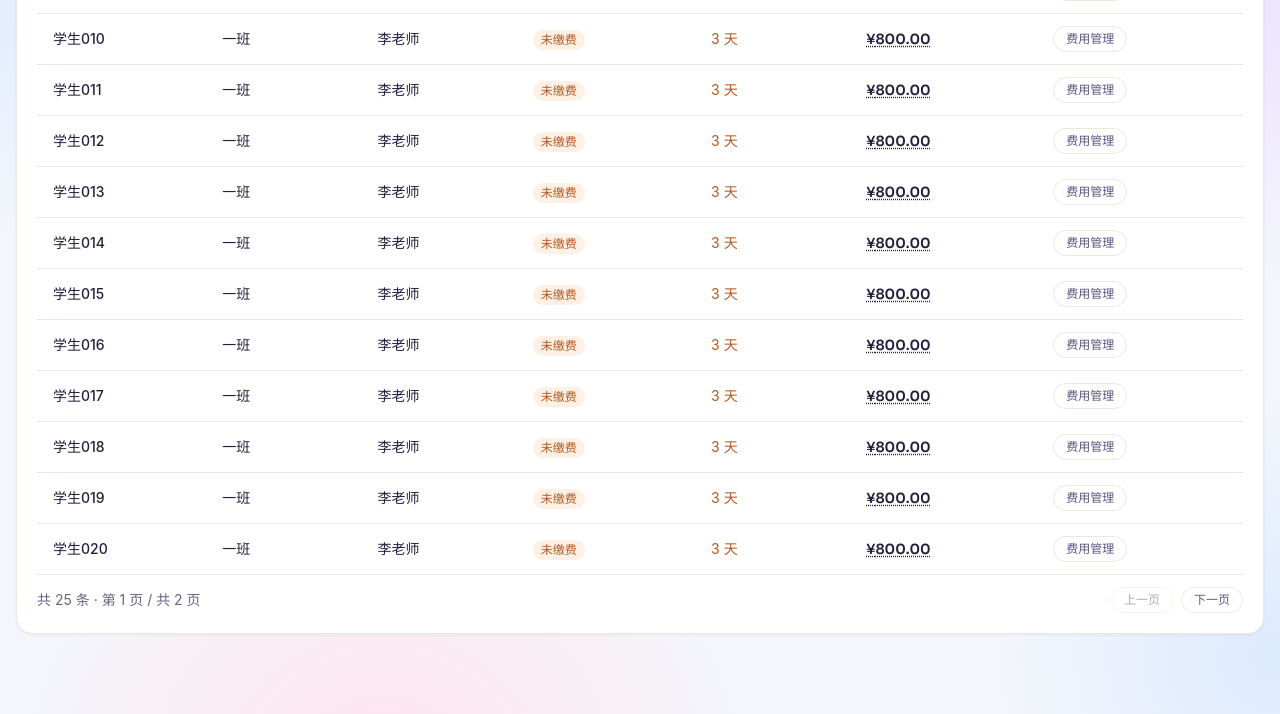
it: AdminBillingModule › resets to page 1 when a filter changes, even if the current page was not page 1
(page scrolled)
Click the button "下一页" at (1212, 600), box [1181,587,1243,613]
(page scrolled)
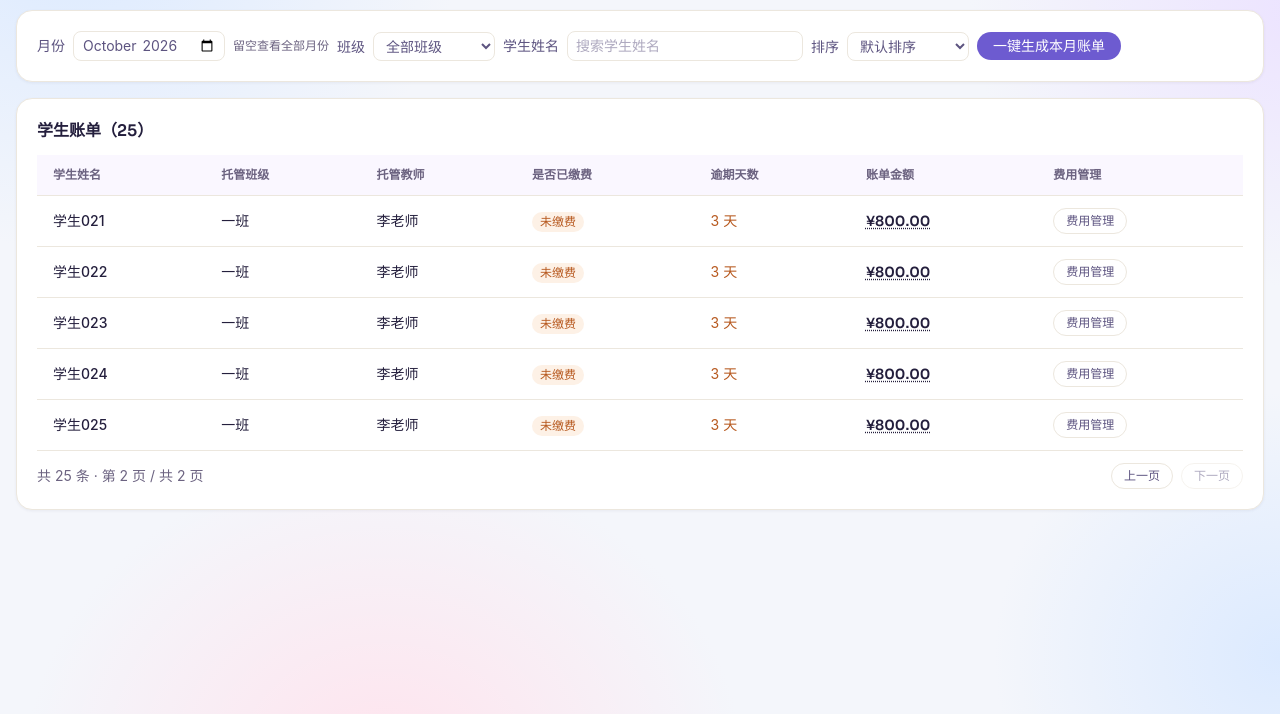
Result: the text "学生021" is shown at [37,196,205,246]
Type "学生" into the field with placeholder "搜索学生姓名" at (685, 46), box [567,31,803,61]
(page scrolled)
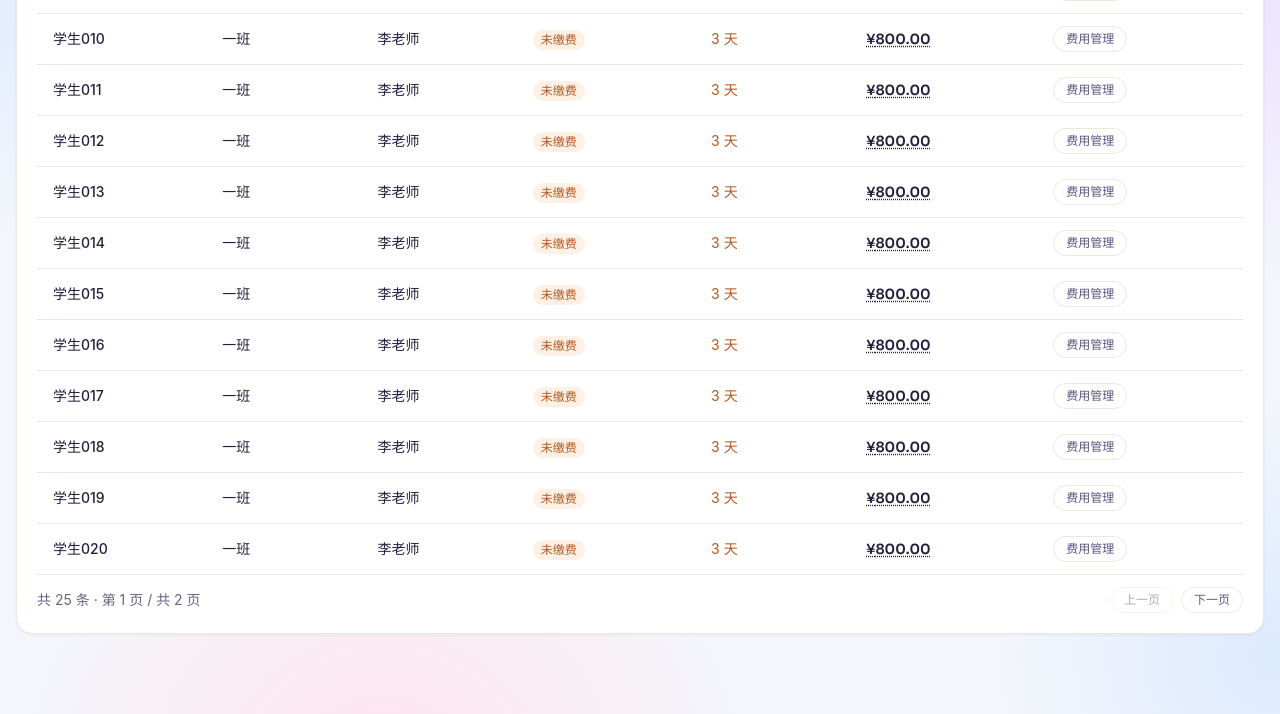
Result: the text "共 25 条 · 第 1 页 / 共 2 页" is shown at [37,590,201,610]
